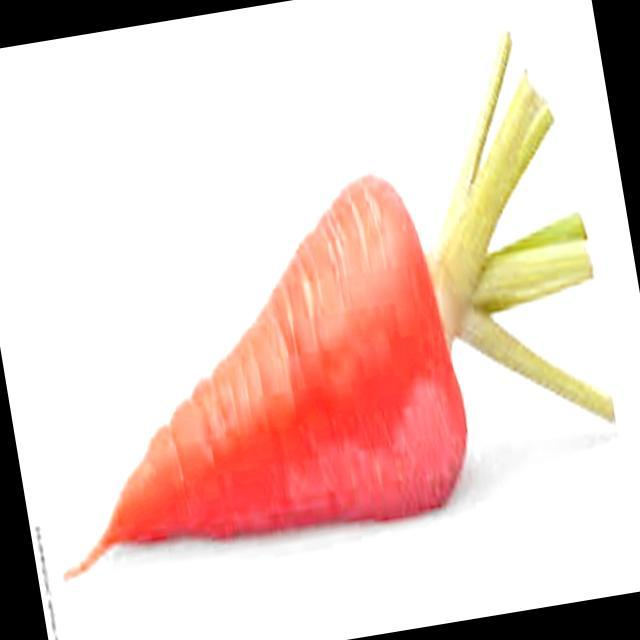carrot: (66, 35, 614, 578)
